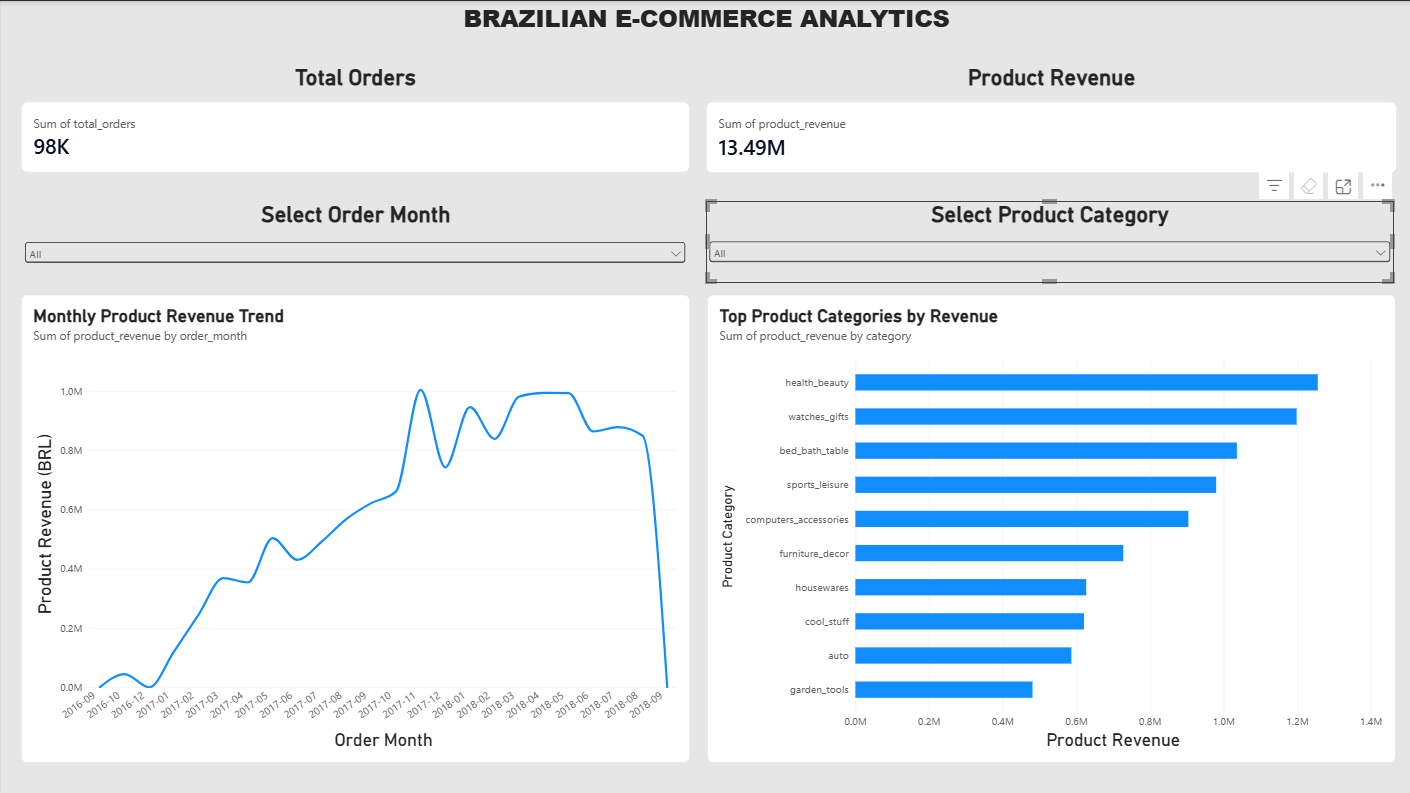

This screenshot's page, from the dashboard's own definition file:
{"tool":"powerbi","page":{"name":"Executive Overview","canvas":[1920,1080],"ordinal":0},"visuals":[{"type":"lineChart","title":"Monthly Product Revenue Trend","fields":{"Category":["olist_ecommerce vw_monthly_sales.order_month"],"Y":["Sum(olist_ecommerce vw_monthly_sales.product_revenue)"]},"box":[28.1,399.9,910.2,636.6],"z":0},{"type":"clusteredBarChart","title":"Top Product Categories by Revenue","fields":{"Category":["olist_ecommerce vw_category_performance.category"],"Y":["Sum(olist_ecommerce vw_category_performance.product_revenue)"]},"box":[961.1,399.9,936.5,636.6],"z":1000},{"type":"textbox","box":[0,0,1920.4,86.4],"z":2000},{"type":"slicer","title":"Select Order Month","fields":{"Values":["olist_ecommerce vw_monthly_sales.order_month"]},"box":[28.1,271.8,910.2,112.2],"z":3000},{"type":"cardVisual","title":"Product Revenue","fields":{"Data":["Sum(olist_ecommerce vw_monthly_sales.product_revenue)"]},"box":[959.3,85.9,941,147.7],"z":4000},{"type":"cardVisual","title":"Total Orders","fields":{"Data":["Sum(olist_ecommerce vw_monthly_sales.total_orders)"]},"box":[28.1,85.9,910.5,146.5],"z":5000},{"type":"slicer","title":"\tSelect Product Category","fields":{"Values":["olist_ecommerce vw_category_performance.category"]},"box":[959.3,271.8,936.5,112.2],"z":6000}]}

Visuals, with their boxes in screenshot pixels (x1, y1, x2, y2), scaled from the page's 1920x1080 canvas onto the 1410x793 screenshot:
"Monthly Product Revenue Trend" lineChart: x1=21, y1=294, x2=689, y2=761
"Top Product Categories by Revenue" clusteredBarChart: x1=706, y1=294, x2=1394, y2=761
textbox: x1=0, y1=0, x2=1409, y2=63
"Select Order Month" slicer: x1=21, y1=200, x2=689, y2=282
"Product Revenue" cardVisual: x1=704, y1=63, x2=1396, y2=172
"Total Orders" cardVisual: x1=21, y1=63, x2=689, y2=171
"	Select Product Category" slicer: x1=704, y1=200, x2=1392, y2=282
